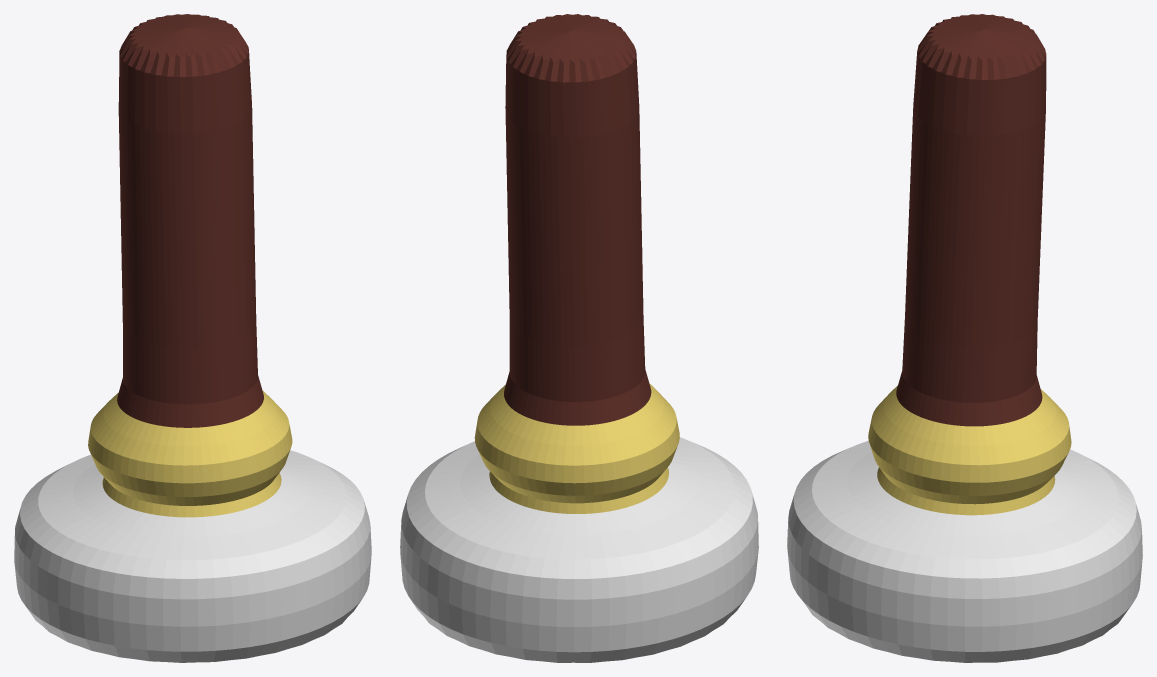
File: lid2.fbx
3 views of the same model, side by side, from view 1: azimuth 30°, elevation 25°; view 2: azimuth 150°, elevation 25°; view 3: azimuth 270°, elevation 25° (orthographic).
Parts seen in each view (by area): view 1: Plane.002; view 2: Plane.002; view 3: Plane.002.
Boxes of the visible parts, x1,y1,x2,y2 form: Plane.002: (14,14,371,662); Plane.002: (400,14,758,662); Plane.002: (787,14,1142,662).
Bounding box in the file's own units: 246 × 434 × 244.
